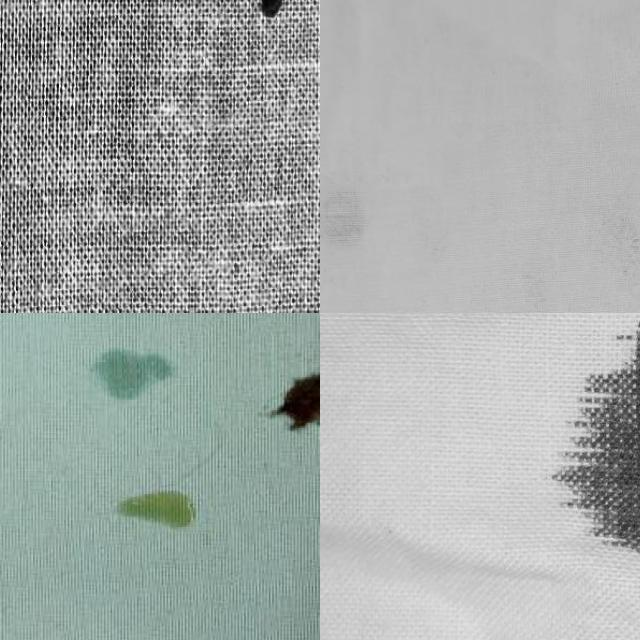Thread_other: (320, 313, 640, 595), (74, 335, 214, 583), (236, 343, 320, 475), (320, 154, 393, 300), (234, 0, 309, 31)
